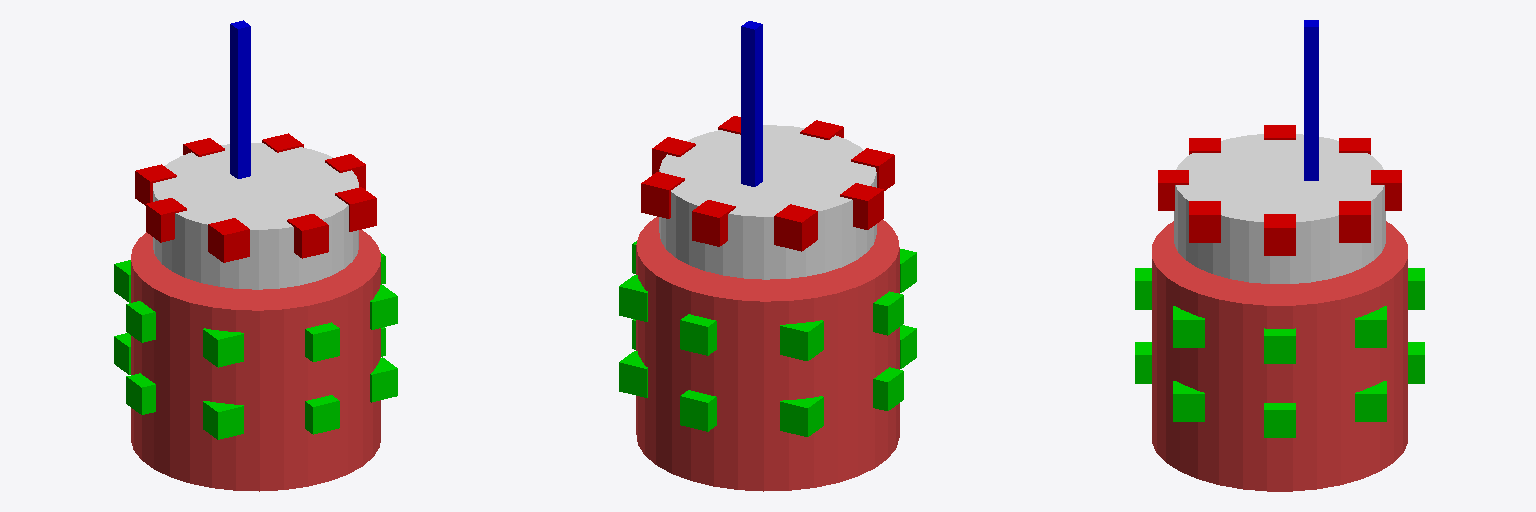
URDF robot description (random_bottle):
<?xml version="1.0"?>
<robot name="random_bottle">

  <!-- Define the cap link -->
  <link name="link1">
    <visual>
      <geometry>
        <mesh filename="cap.obj" scale="1.0 1.0 1.0"/>
      </geometry>
       <material name="white">
        <color rgba=".9 .9 .9 1"/>
      </material>

    </visual>
    <collision>
      <geometry>
        <mesh filename="cap.obj" scale="1.0 1.0 1.0"/>
      </geometry>
    </collision>

    <inertial>
      <mass value="0.013442315932676982"/> <!-- You can adjust the mass as needed -->
      <origin rpy="0 0 0" xyz="0 0 0"/>
      <inertia ixx="4.369282538781112e-06" ixy="0.0" ixz="0.0" iyy="4.369282538781112e-06" iyz="0.0" izz="7.697795913220946e-06"/>
    </inertial>
  </link>

    <link name="l10">
    <visual>
      <geometry>
        <box size="0.01 0.01 0.01"/>
      </geometry>

      <material name="red">
        <color rgba="0.9 0.0 0.0 1"/>
      </material>

    </visual>

    <inertial>
      <mass value="0.0001"/> <!-- You can adjust the mass as needed -->
      <origin rpy="0 0 0" xyz="0 0 -0.00"/> <!-- Offset by half of link1's height + 0.03m for the margin -->
      <inertia ixx="0.000000003" ixy="0.0" ixz="0.0" iyy="0.0000003" iyz="0.0" izz="0.00000003"/>
    </inertial>

  </link>
  <link name="l11">
    <visual>
      <geometry>
        <box size="0.01 0.01 0.01"/>
      </geometry>

      <material name="red">
        <color rgba="0.9 0.0 0.0 1"/>
      </material>

    </visual>

    <inertial>
      <mass value="0.0001"/> <!-- You can adjust the mass as needed -->
      <origin rpy="0 0 0" xyz="0 0 -0.00"/> <!-- Offset by half of link1's height + 0.03m for the margin -->
      <inertia ixx="0.000000003" ixy="0.0" ixz="0.0" iyy="0.0000003" iyz="0.0" izz="0.00000003"/>
    </inertial>

  </link>
  <link name="l12">
    <visual>
      <geometry>
        <box size="0.01 0.01 0.01"/>
      </geometry>

      <material name="red">
        <color rgba="0.9 0.0 0.0 1"/>
      </material>

    </visual>

    <inertial>
      <mass value="0.0001"/> <!-- You can adjust the mass as needed -->
      <origin rpy="0 0 0" xyz="0 0 -0.00"/> <!-- Offset by half of link1's height + 0.03m for the margin -->
      <inertia ixx="0.000000003" ixy="0.0" ixz="0.0" iyy="0.0000003" iyz="0.0" izz="0.00000003"/>
    </inertial>

  </link>
  <link name="l13">
    <visual>
      <geometry>
        <box size="0.01 0.01 0.01"/>
      </geometry>

      <material name="red">
        <color rgba="0.9 0.0 0.0 1"/>
      </material>

    </visual>

    <inertial>
      <mass value="0.0001"/> <!-- You can adjust the mass as needed -->
      <origin rpy="0 0 0" xyz="0 0 -0.00"/> <!-- Offset by half of link1's height + 0.03m for the margin -->
      <inertia ixx="0.000000003" ixy="0.0" ixz="0.0" iyy="0.0000003" iyz="0.0" izz="0.00000003"/>
    </inertial>

  </link>
  <link name="l10b">
    <visual>
      <geometry>
        <box size="0.01 0.01 0.01"/>
      </geometry>

      <material name="red">
        <color rgba="0.9 0.0 0.0 1"/>
      </material>

    </visual>

    <inertial>
      <mass value="0.0001"/> <!-- You can adjust the mass as needed -->
      <origin rpy="0 0 0" xyz="0 0 -0.00"/> <!-- Offset by half of link1's height + 0.03m for the margin -->
      <inertia ixx="0.000000003" ixy="0.0" ixz="0.0" iyy="0.0000003" iyz="0.0" izz="0.00000003"/>
    </inertial>

  </link>
  <link name="l11b">
    <visual>
      <geometry>
        <box size="0.01 0.01 0.01"/>
      </geometry>

      <material name="red">
        <color rgba="0.9 0.0 0.0 1"/>
      </material>

    </visual>

    <inertial>
      <mass value="0.0001"/> <!-- You can adjust the mass as needed -->
      <origin rpy="0 0 0" xyz="0 0 -0.00"/> <!-- Offset by half of link1's height + 0.03m for the margin -->
      <inertia ixx="0.000000003" ixy="0.0" ixz="0.0" iyy="0.0000003" iyz="0.0" izz="0.00000003"/>
    </inertial>

  </link>
  <link name="l12b">
    <visual>
      <geometry>
        <box size="0.01 0.01 0.01"/>
      </geometry>

      <material name="red">
        <color rgba="0.9 0.0 0.0 1"/>
      </material>

    </visual>

    <inertial>
      <mass value="0.0001"/> <!-- You can adjust the mass as needed -->
      <origin rpy="0 0 0" xyz="0 0 -0.00"/> <!-- Offset by half of link1's height + 0.03m for the margin -->
      <inertia ixx="0.000000003" ixy="0.0" ixz="0.0" iyy="0.0000003" iyz="0.0" izz="0.00000003"/>
    </inertial>

  </link>
  <link name="l13b">
    <visual>
      <geometry>
        <box size="0.01 0.01 0.01"/>
      </geometry>

      <material name="red">
        <color rgba="0.9 0.0 0.0 1"/>
      </material>

    </visual>

    <inertial>
      <mass value="0.0001"/> <!-- You can adjust the mass as needed -->
      <origin rpy="0 0 0" xyz="0 0 -0.00"/> <!-- Offset by half of link1's height + 0.03m for the margin -->
      <inertia ixx="0.000000003" ixy="0.0" ixz="0.0" iyy="0.0000003" iyz="0.0" izz="0.00000003"/>
    </inertial>

  </link>
  <link name="l20">
    <visual>
      <geometry>
        <box size="0.01 0.01 0.01"/>
      </geometry>

      <material name="red">
        <color rgba="0.0 0.9 0.0 1"/>
      </material>

    </visual>

    <inertial>
      <mass value="0.0001"/> <!-- You can adjust the mass as needed -->
      <origin rpy="0 0 0" xyz="0 0 -0.00"/> <!-- Offset by half of link1's height + 0.03m for the margin -->
      <inertia ixx="0.000000003" ixy="0.0" ixz="0.0" iyy="0.0000003" iyz="0.0" izz="0.00000003"/>
    </inertial>

  </link>
  <link name="l21">
    <visual>
      <geometry>
        <box size="0.01 0.01 0.01"/>
      </geometry>

      <material name="red">
        <color rgba="0.0 0.9 0.0 1"/>
      </material>

    </visual>

    <inertial>
      <mass value="0.0001"/> <!-- You can adjust the mass as needed -->
      <origin rpy="0 0 0" xyz="0 0 -0.00"/> <!-- Offset by half of link1's height + 0.03m for the margin -->
      <inertia ixx="0.000000003" ixy="0.0" ixz="0.0" iyy="0.0000003" iyz="0.0" izz="0.00000003"/>
    </inertial>

  </link>
  <link name="l22">
    <visual>
      <geometry>
        <box size="0.01 0.01 0.01"/>
      </geometry>

      <material name="red">
        <color rgba="0.0 0.9 0.0 1"/>
      </material>

    </visual>

    <inertial>
      <mass value="0.0001"/> <!-- You can adjust the mass as needed -->
      <origin rpy="0 0 0" xyz="0 0 -0.00"/> <!-- Offset by half of link1's height + 0.03m for the margin -->
      <inertia ixx="0.000000003" ixy="0.0" ixz="0.0" iyy="0.0000003" iyz="0.0" izz="0.00000003"/>
    </inertial>

  </link>
  <link name="l23">
    <visual>
      <geometry>
        <box size="0.01 0.01 0.01"/>
      </geometry>

      <material name="red">
        <color rgba="0.0 0.9 0.0 1"/>
      </material>

    </visual>

    <inertial>
      <mass value="0.0001"/> <!-- You can adjust the mass as needed -->
      <origin rpy="0 0 0" xyz="0 0 -0.00"/> <!-- Offset by half of link1's height + 0.03m for the margin -->
      <inertia ixx="0.000000003" ixy="0.0" ixz="0.0" iyy="0.0000003" iyz="0.0" izz="0.00000003"/>
    </inertial>

  </link>
  <link name="l24">
    <visual>
      <geometry>
        <box size="0.01 0.01 0.01"/>
      </geometry>

      <material name="red">
        <color rgba="0.0 0.9 0.0 1"/>
      </material>

    </visual>

    <inertial>
      <mass value="0.0001"/> <!-- You can adjust the mass as needed -->
      <origin rpy="0 0 0" xyz="0 0 -0.00"/> <!-- Offset by half of link1's height + 0.03m for the margin -->
      <inertia ixx="0.000000003" ixy="0.0" ixz="0.0" iyy="0.0000003" iyz="0.0" izz="0.00000003"/>
    </inertial>

  </link>
  <link name="l25">
    <visual>
      <geometry>
        <box size="0.01 0.01 0.01"/>
      </geometry>

      <material name="red">
        <color rgba="0.0 0.9 0.0 1"/>
      </material>

    </visual>

    <inertial>
      <mass value="0.0001"/> <!-- You can adjust the mass as needed -->
      <origin rpy="0 0 0" xyz="0 0 -0.00"/> <!-- Offset by half of link1's height + 0.03m for the margin -->
      <inertia ixx="0.000000003" ixy="0.0" ixz="0.0" iyy="0.0000003" iyz="0.0" izz="0.00000003"/>
    </inertial>

  </link>
  <link name="l26">
    <visual>
      <geometry>
        <box size="0.01 0.01 0.01"/>
      </geometry>

      <material name="red">
        <color rgba="0.0 0.9 0.0 1"/>
      </material>

    </visual>

    <inertial>
      <mass value="0.0001"/> <!-- You can adjust the mass as needed -->
      <origin rpy="0 0 0" xyz="0 0 -0.00"/> <!-- Offset by half of link1's height + 0.03m for the margin -->
      <inertia ixx="0.000000003" ixy="0.0" ixz="0.0" iyy="0.0000003" iyz="0.0" izz="0.00000003"/>
    </inertial>

  </link>
  <link name="l27">
    <visual>
      <geometry>
        <box size="0.01 0.01 0.01"/>
      </geometry>

      <material name="red">
        <color rgba="0.0 0.9 0.0 1"/>
      </material>

    </visual>

    <inertial>
      <mass value="0.0001"/> <!-- You can adjust the mass as needed -->
      <origin rpy="0 0 0" xyz="0 0 -0.00"/> <!-- Offset by half of link1's height + 0.03m for the margin -->
      <inertia ixx="0.000000003" ixy="0.0" ixz="0.0" iyy="0.0000003" iyz="0.0" izz="0.00000003"/>
    </inertial>

  </link>
  <link name="l30">
    <visual>
      <geometry>
        <box size="0.01 0.01 0.01"/>
      </geometry>

      <material name="red">
        <color rgba="0.0 0.9 0.0 1"/>
      </material>

    </visual>

    <inertial>
      <mass value="0.0001"/> <!-- You can adjust the mass as needed -->
      <origin rpy="0 0 0" xyz="0 0 -0.00"/> <!-- Offset by half of link1's height + 0.03m for the margin -->
      <inertia ixx="0.000000003" ixy="0.0" ixz="0.0" iyy="0.0000003" iyz="0.0" izz="0.00000003"/>
    </inertial>

  </link>
  <link name="l31">
    <visual>
      <geometry>
        <box size="0.01 0.01 0.01"/>
      </geometry>

      <material name="red">
        <color rgba="0.0 0.9 0.0 1"/>
      </material>

    </visual>

    <inertial>
      <mass value="0.0001"/> <!-- You can adjust the mass as needed -->
      <origin rpy="0 0 0" xyz="0 0 -0.00"/> <!-- Offset by half of link1's height + 0.03m for the margin -->
      <inertia ixx="0.000000003" ixy="0.0" ixz="0.0" iyy="0.0000003" iyz="0.0" izz="0.00000003"/>
    </inertial>

  </link>
  <link name="l32">
    <visual>
      <geometry>
        <box size="0.01 0.01 0.01"/>
      </geometry>

      <material name="red">
        <color rgba="0.0 0.9 0.0 1"/>
      </material>

    </visual>

    <inertial>
      <mass value="0.0001"/> <!-- You can adjust the mass as needed -->
      <origin rpy="0 0 0" xyz="0 0 -0.00"/> <!-- Offset by half of link1's height + 0.03m for the margin -->
      <inertia ixx="0.000000003" ixy="0.0" ixz="0.0" iyy="0.0000003" iyz="0.0" izz="0.00000003"/>
    </inertial>

  </link>
  <link name="l33">
    <visual>
      <geometry>
        <box size="0.01 0.01 0.01"/>
      </geometry>

      <material name="red">
        <color rgba="0.0 0.9 0.0 1"/>
      </material>

    </visual>

    <inertial>
      <mass value="0.0001"/> <!-- You can adjust the mass as needed -->
      <origin rpy="0 0 0" xyz="0 0 -0.00"/> <!-- Offset by half of link1's height + 0.03m for the margin -->
      <inertia ixx="0.000000003" ixy="0.0" ixz="0.0" iyy="0.0000003" iyz="0.0" izz="0.00000003"/>
    </inertial>

  </link>
  <link name="l34">
    <visual>
      <geometry>
        <box size="0.01 0.01 0.01"/>
      </geometry>

      <material name="red">
        <color rgba="0.0 0.9 0.0 1"/>
      </material>

    </visual>

    <inertial>
      <mass value="0.0001"/> <!-- You can adjust the mass as needed -->
      <origin rpy="0 0 0" xyz="0 0 -0.00"/> <!-- Offset by half of link1's height + 0.03m for the margin -->
      <inertia ixx="0.000000003" ixy="0.0" ixz="0.0" iyy="0.0000003" iyz="0.0" izz="0.00000003"/>
    </inertial>

  </link>
  <link name="l35">
    <visual>
      <geometry>
        <box size="0.01 0.01 0.01"/>
      </geometry>

      <material name="red">
        <color rgba="0.0 0.9 0.0 1"/>
      </material>

    </visual>

    <inertial>
      <mass value="0.0001"/> <!-- You can adjust the mass as needed -->
      <origin rpy="0 0 0" xyz="0 0 -0.00"/> <!-- Offset by half of link1's height + 0.03m for the margin -->
      <inertia ixx="0.000000003" ixy="0.0" ixz="0.0" iyy="0.0000003" iyz="0.0" izz="0.00000003"/>
    </inertial>

  </link>
  <link name="l36">
    <visual>
      <geometry>
        <box size="0.01 0.01 0.01"/>
      </geometry>

      <material name="red">
        <color rgba="0.0 0.9 0.0 1"/>
      </material>

    </visual>

    <inertial>
      <mass value="0.0001"/> <!-- You can adjust the mass as needed -->
      <origin rpy="0 0 0" xyz="0 0 -0.00"/> <!-- Offset by half of link1's height + 0.03m for the margin -->
      <inertia ixx="0.000000003" ixy="0.0" ixz="0.0" iyy="0.0000003" iyz="0.0" izz="0.00000003"/>
    </inertial>

  </link>
  <link name="l37">
    <visual>
      <geometry>
        <box size="0.01 0.01 0.01"/>
      </geometry>

      <material name="red">
        <color rgba="0.0 0.9 0.0 1"/>
      </material>

    </visual>

    <inertial>
      <mass value="0.0001"/> <!-- You can adjust the mass as needed -->
      <origin rpy="0 0 0" xyz="0 0 -0.00"/> <!-- Offset by half of link1's height + 0.03m for the margin -->
      <inertia ixx="0.000000003" ixy="0.0" ixz="0.0" iyy="0.0000003" iyz="0.0" izz="0.00000003"/>
    </inertial>

  </link>


  <link name="hint">
    <visual>
      <geometry>
        <box size="0.005 0.005 0.07"/> <!-- 9cm x 9cm x 6cm -->
      </geometry>
       <material name="blue">
        <color rgba=".0 .0 .9 1"/>
      </material>
    </visual>

    <inertial>
      <mass value="0.0001"/> <!-- You can adjust the mass as needed -->
      <origin rpy="0 0 0" xyz="0 0 -0.00"/> <!-- Offset by half of link1's height + 0.03m for the margin -->
      <inertia ixx="0.000000003" ixy="0.0" ixz="0.0" iyy="0.0000003" iyz="0.0" izz="0.00000003"/>
    </inertial>


  </link>

  <!-- Define the base link -->
  <link name="link2">
    <visual>
      <geometry>
        <mesh filename="base.obj" scale="1.0 1.0 1.0"/>
      </geometry>
      <material name="red">
        <color rgba=".9 .3 .3 1"/>
      </material>

    </visual>

    <collision>
      <geometry>
        <mesh filename="base.obj" scale="1.0 1.0 1.0"/>
      </geometry>
    </collision>

    <inertial>
      <mass value="0.05666399786676075"/> <!-- You can adjust the mass as needed -->
      <origin rpy="0 0 0" xyz="0 0 -0.00"/> <!-- Offset by half of link1's height + 0.03m for the margin -->
      <inertia ixx="4.3984410601257534e-05" ixy="0.0" ixz="0.0" iyy="4.3984410601257534e-05" iyz="0.0" izz="4.774427776831903e-05"/>
    </inertial>
  </link>



  <link name="brake">
   <visual>
      <geometry>
        <box size="0.02 0.02 0.005"/> <!-- 6cm x 6cm x 2cm -->
      </geometry>
       <material name="gray">
        <color rgba=".5 .5 .5 1"/>
      </material>

    </visual>
    <collision>
      <geometry>
        <box size="0.02 0.02 0.005"/> <!-- 6cm x 6cm x 2cm -->
      </geometry>
    </collision>

    <inertial>
      <mass value="0.005"/> <!-- You can adjust the mass as needed -->
      <origin rpy="0 0 0" xyz="0 0 0"/>
      <inertia ixx="0.00018" ixy="0.0" ixz="0.0" iyy="0.00018" iyz="0.0" izz="0.00018"/>
    </inertial>
  </link>

  <!-- Define the joint connecting link1 and link2 as a revolute joint along z-axis -->
  <joint name="fix_joint" type="fixed">
    <parent link="link1"/>
    <child link="hint"/>
    <origin rpy="0 0 0" xyz="0 0.01 0.03"/> <!-- Offset by half of link1's height for the margin -->
    <axis xyz="0 0 1"/>
  </joint>

  <!-- Define the joint connecting link1 and link2 as a revolute joint along z-axis -->
  <joint name="brake_joint" type="prismatic">
    <parent link="link2"/>
    <child link="brake"/>
    <origin rpy="0 0 0" xyz="0 0 0.05418494088547279"/> <!-- Offset by half of link1's height for the margin -->
    <axis xyz="0 0 1"/>
    <limit lower="-0.02" upper="0.02" />
    <!-- <dynamics damping="0.0" friction="0.0"/> -->
  </joint>


  <joint name="b_joint" type="revolute">
    <parent link="link2"/>
    <child link="link1"/>
    <origin rpy="0 0 0" xyz="0 0 0.047631541111973985"/> <!-- Offset by half of link1's height for the margin -->
    <axis xyz="0 0 1"/>
    <!-- No joint limits -->
    <dynamics damping="0.0" friction="0.0"/>
  </joint>


  <!-- marker -->
    <joint name="jl10" type="fixed">
    <parent link="link1"/>
    <child link="l10"/>
    <origin rpy="0 0 0" xyz="0.0 0.033842399277497104 0.006466019932049642"/> <!-- Offset by half of link1's height for the margin -->
    <axis xyz="0 0 1"/>
  </joint>
  <joint name="jl11" type="fixed">
    <parent link="link1"/>
    <child link="l11"/>
    <origin rpy="0 0 0" xyz="0.023930189700137435 0.023930190341344398 0.006466019932049642"/> <!-- Offset by half of link1's height for the margin -->
    <axis xyz="0 0 1"/>
  </joint>
  <joint name="jl12" type="fixed">
    <parent link="link1"/>
    <child link="l12"/>
    <origin rpy="0 0 0" xyz="0.03384239927749709 9.068035888297826e-10 0.006466019932049642"/> <!-- Offset by half of link1's height for the margin -->
    <axis xyz="0 0 1"/>
  </joint>
  <joint name="jl13" type="fixed">
    <parent link="link1"/>
    <child link="l13"/>
    <origin rpy="0 0 0" xyz="0.023930190982551343 -0.023930189058930452 0.006466019932049642"/> <!-- Offset by half of link1's height for the margin -->
    <axis xyz="0 0 1"/>
  </joint>
  <joint name="jl10b" type="fixed">
    <parent link="link1"/>
    <child link="l10b"/>
    <origin rpy="0 0 0" xyz="1.8136071776595646e-09 -0.033842399277497055 0.006466019932049642"/> <!-- Offset by half of link1's height for the margin -->
    <axis xyz="0 0 1"/>
  </joint>
  <joint name="jl11b" type="fixed">
    <parent link="link1"/>
    <child link="l11b"/>
    <origin rpy="0 0 0" xyz="-0.023930188417723444 -0.023930191623758288 0.006466019932049642"/> <!-- Offset by half of link1's height for the margin -->
    <axis xyz="0 0 1"/>
  </joint>
  <joint name="jl12b" type="fixed">
    <parent link="link1"/>
    <child link="l12b"/>
    <origin rpy="0 0 0" xyz="-0.03384239927749699 -2.720410751460301e-09 0.006466019932049642"/> <!-- Offset by half of link1's height for the margin -->
    <axis xyz="0 0 1"/>
  </joint>
  <joint name="jl13b" type="fixed">
    <parent link="link1"/>
    <child link="l13b"/>
    <origin rpy="0 0 0" xyz="-0.02393019226496519 0.023930187776516437 0.006466019932049642"/> <!-- Offset by half of link1's height for the margin -->
    <axis xyz="0 0 1"/>
  </joint>
  <joint name="jl20" type="fixed">
    <parent link="link2"/>
    <child link="l20"/>
    <origin rpy="0 0 0" xyz="0.0 0.04105084069976081 0.019578924667184392"/> <!-- Offset by half of link1's height for the margin -->
    <axis xyz="0 0 1"/>
  </joint>
  <joint name="jl21" type="fixed">
    <parent link="link2"/>
    <child link="l21"/>
    <origin rpy="0 0 0" xyz="0.02902732744331746 0.029027328221101704 0.019578924667184392"/> <!-- Offset by half of link1's height for the margin -->
    <axis xyz="0 0 1"/>
  </joint>
  <joint name="jl22" type="fixed">
    <parent link="link2"/>
    <child link="l22"/>
    <origin rpy="0 0 0" xyz="0.041050840699760796 1.0999530312785753e-09 0.019578924667184392"/> <!-- Offset by half of link1's height for the margin -->
    <axis xyz="0 0 1"/>
  </joint>
  <joint name="jl23" type="fixed">
    <parent link="link2"/>
    <child link="l23"/>
    <origin rpy="0 0 0" xyz="0.029027328998885927 -0.029027326665533197 0.019578924667184392"/> <!-- Offset by half of link1's height for the margin -->
    <axis xyz="0 0 1"/>
  </joint>
  <joint name="jl24" type="fixed">
    <parent link="link2"/>
    <child link="l24"/>
    <origin rpy="0 0 0" xyz="2.19990606255715e-09 -0.04105084069976075 0.019578924667184392"/> <!-- Offset by half of link1's height for the margin -->
    <axis xyz="0 0 1"/>
  </joint>
  <joint name="jl25" type="fixed">
    <parent link="link2"/>
    <child link="l25"/>
    <origin rpy="0 0 0" xyz="-0.0290273258877489 -0.029027329776670146 0.019578924667184392"/> <!-- Offset by half of link1's height for the margin -->
    <axis xyz="0 0 1"/>
  </joint>
  <joint name="jl26" type="fixed">
    <parent link="link2"/>
    <child link="l26"/>
    <origin rpy="0 0 0" xyz="-0.04105084069976068 -3.2998590756054875e-09 0.019578924667184392"/> <!-- Offset by half of link1's height for the margin -->
    <axis xyz="0 0 1"/>
  </joint>
  <joint name="jl27" type="fixed">
    <parent link="link2"/>
    <child link="l27"/>
    <origin rpy="0 0 0" xyz="-0.029027330554454316 0.0290273251099646 0.019578924667184392"/> <!-- Offset by half of link1's height for the margin -->
    <axis xyz="0 0 1"/>
  </joint>
  <joint name="jl30" type="fixed">
    <parent link="link2"/>
    <child link="l30"/>
    <origin rpy="0 0 0" xyz="0.0 0.04105084069976081 -0.006526308222394798"/> <!-- Offset by half of link1's height for the margin -->
    <axis xyz="0 0 1"/>
  </joint>
  <joint name="jl31" type="fixed">
    <parent link="link2"/>
    <child link="l31"/>
    <origin rpy="0 0 0" xyz="0.02902732744331746 0.029027328221101704 -0.006526308222394798"/> <!-- Offset by half of link1's height for the margin -->
    <axis xyz="0 0 1"/>
  </joint>
  <joint name="jl32" type="fixed">
    <parent link="link2"/>
    <child link="l32"/>
    <origin rpy="0 0 0" xyz="0.041050840699760796 1.0999530312785753e-09 -0.006526308222394798"/> <!-- Offset by half of link1's height for the margin -->
    <axis xyz="0 0 1"/>
  </joint>
  <joint name="jl33" type="fixed">
    <parent link="link2"/>
    <child link="l33"/>
    <origin rpy="0 0 0" xyz="0.029027328998885927 -0.029027326665533197 -0.006526308222394798"/> <!-- Offset by half of link1's height for the margin -->
    <axis xyz="0 0 1"/>
  </joint>
  <joint name="jl34" type="fixed">
    <parent link="link2"/>
    <child link="l34"/>
    <origin rpy="0 0 0" xyz="2.19990606255715e-09 -0.04105084069976075 -0.006526308222394798"/> <!-- Offset by half of link1's height for the margin -->
    <axis xyz="0 0 1"/>
  </joint>
  <joint name="jl35" type="fixed">
    <parent link="link2"/>
    <child link="l35"/>
    <origin rpy="0 0 0" xyz="-0.0290273258877489 -0.029027329776670146 -0.006526308222394798"/> <!-- Offset by half of link1's height for the margin -->
    <axis xyz="0 0 1"/>
  </joint>
  <joint name="jl36" type="fixed">
    <parent link="link2"/>
    <child link="l36"/>
    <origin rpy="0 0 0" xyz="-0.04105084069976068 -3.2998590756054875e-09 -0.006526308222394798"/> <!-- Offset by half of link1's height for the margin -->
    <axis xyz="0 0 1"/>
  </joint>
  <joint name="jl37" type="fixed">
    <parent link="link2"/>
    <child link="l37"/>
    <origin rpy="0 0 0" xyz="-0.029027330554454316 0.0290273251099646 -0.006526308222394798"/> <!-- Offset by half of link1's height for the margin -->
    <axis xyz="0 0 1"/>
  </joint>



</robot>

--- What the picture shows (computed from the rendered views, not written in the file) ---
Views: 3 orthographic renders of the robot side by side, from view 1: azimuth 30°, elevation 25°; view 2: azimuth 150°, elevation 25°; view 3: azimuth 270°, elevation 25°.
Model random_bottle with 28 links and 27 joints (1 revolute, 1 prismatic, 25 fixed), rooted at link2, posed every joint at zero.
Visible links, largest first — view 1: link2, link1, hint, l11b, l10b, l25, l35, l12b, l13, l24, l34, l26 (+7 smaller); view 2: link2, link1, hint, l13b, l37, l27, l10, l12b, l11, l20, l30, l26 (+8 smaller); view 3: link2, link1, hint, l11, l12, l13, l21, l23, l31, l33, l22, l32 (+6 smaller).
Link boxes in pixels (x1,y1,x2,y2): link2: (131, 230, 380, 491); link1: (153, 143, 358, 289); hint: (230, 20, 250, 178); l11b: (208, 218, 249, 262); l10b: (287, 214, 328, 258); l25: (203, 328, 243, 367); l35: (203, 401, 243, 439); l12b: (146, 198, 186, 242); l13: (335, 187, 376, 231); l24: (305, 322, 339, 361); l34: (305, 395, 339, 434); l26: (126, 301, 155, 342); link2: (636, 217, 899, 491); link1: (659, 125, 876, 279); hint: (741, 21, 762, 186); l13b: (774, 204, 817, 251); l37: (780, 396, 823, 436); l27: (780, 320, 823, 360); l10: (692, 200, 735, 246); l12b: (840, 183, 883, 229); l11: (641, 172, 684, 218); l20: (680, 314, 716, 355); l30: (680, 390, 716, 431); l26: (873, 291, 903, 335); link2: (1152, 221, 1407, 491); link1: (1174, 134, 1385, 283); hint: (1304, 20, 1318, 180); l11: (1339, 201, 1370, 242); l12: (1264, 214, 1295, 255); l13: (1189, 201, 1220, 242); l21: (1355, 306, 1386, 347); l23: (1173, 306, 1204, 347); l31: (1355, 381, 1386, 421); l33: (1173, 381, 1204, 421); l22: (1264, 328, 1295, 363); l32: (1264, 403, 1295, 437).
Bounding box of the posed robot: 0.0921 × 0.0921 × 0.1453 m (x, y, z).
Meshes: 2 distinct files referenced, 2 mesh visuals loaded (2 OBJ).
